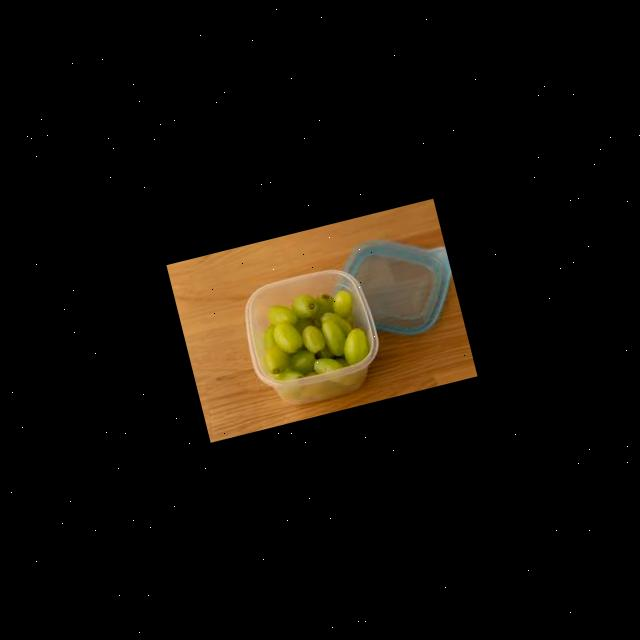grape: (249, 280, 372, 386)
